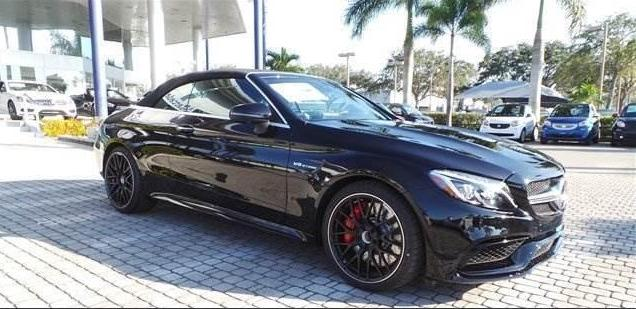C63AMG: (96, 60, 569, 294)
